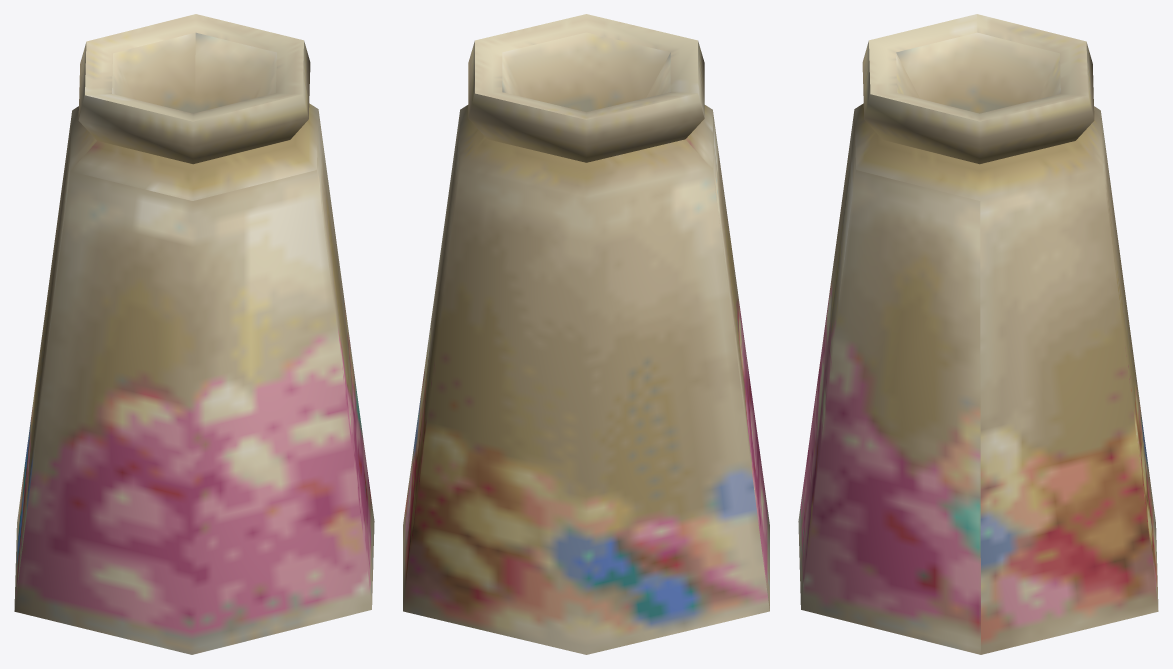
File: cafe_wj009_06.FBX
The picture shows the model from 3 angles, left to right: view 1: azimuth 30°, elevation 25°; view 2: azimuth 150°, elevation 25°; view 3: azimuth 270°, elevation 25°; orthographic projection.
Visible parts, largest first — view 1: cafe_wj009_06; view 2: cafe_wj009_06; view 3: cafe_wj009_06.
Part boxes in pixels (box(x1,y1,x2,y2)): cafe_wj009_06: box(14, 14, 374, 654); cafe_wj009_06: box(403, 14, 769, 654); cafe_wj009_06: box(798, 14, 1158, 654).
Size of the model in its own units: 0.187 by 0.2458 by 0.1608.
Materials: 1 (1 with a texture image).
